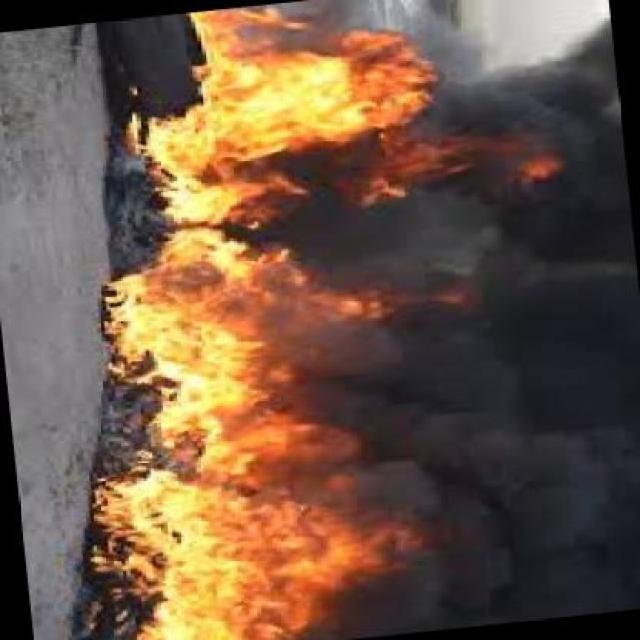Fire: (116, 9, 435, 631)
Smoke: (418, 61, 640, 608)
